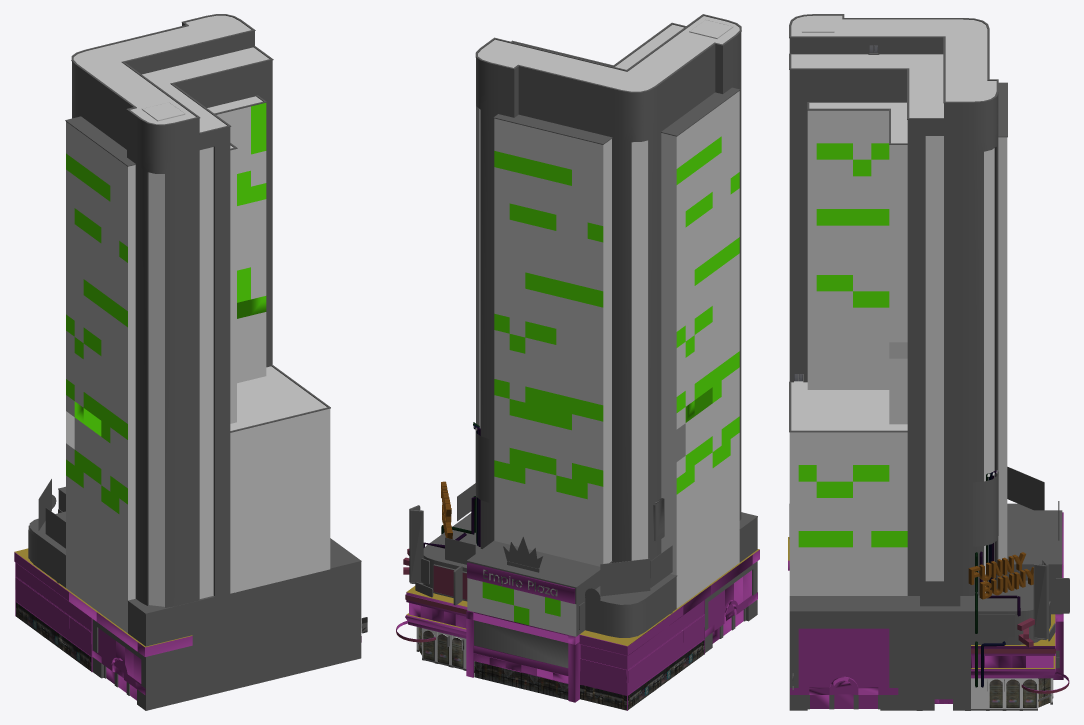
Rendered from mcp_building_04_LOD_1.FBX.
The picture shows the model from 3 angles, left to right: view 1: azimuth 30°, elevation 25°; view 2: azimuth 150°, elevation 25°; view 3: azimuth 270°, elevation 25°; orthographic projection. The views are drawn at different scales.
Visible parts, largest first — view 1: mcp_building_04_windows_01, mcp_building_04_wall_tile_01, mcp_building_04_concrete, mcp_building_04_base_01, mcp_building_04_billboards, mcp_building_04_windows_02; view 2: mcp_building_04_windows_01, mcp_building_04_wall_tile_01, mcp_building_04_base_01, mcp_building_04_concrete, mcp_building_04_billboards, mcp_building_04_windows_02, mcp_building_04_plastic, mcp_building_04_metal_roof, mcp_building_04_screen_02; view 3: mcp_building_04_windows_01, mcp_building_04_wall_tile_01, mcp_building_04_concrete, mcp_building_04_base_01, mcp_building_04_billboards, mcp_building_04_wall_tile_02, mcp_building_04_plastic, mcp_building_04_windows_02, mcp_building_04_brick, mcp_building_04_candy_01, mcp_building_04_helipad_concrete.
Part boxes in pixels (x1=…): mcp_building_04_windows_01: x1=66, y1=103, x2=330, y2=632; mcp_building_04_wall_tile_01: x1=30, y1=23, x2=361, y2=710; mcp_building_04_concrete: x1=29, y1=14, x2=361, y2=614; mcp_building_04_base_01: x1=14, y1=552, x2=361, y2=700; mcp_building_04_billboards: x1=28, y1=479, x2=367, y2=633; mcp_building_04_windows_02: x1=16, y1=602, x2=91, y2=671; mcp_building_04_windows_01: x1=467, y1=91, x2=739, y2=636; mcp_building_04_wall_tile_01: x1=423, y1=32, x2=757, y2=652; mcp_building_04_base_01: x1=396, y1=549, x2=759, y2=710; mcp_building_04_concrete: x1=416, y1=14, x2=757, y2=672; mcp_building_04_billboards: x1=409, y1=430, x2=672, y2=668; mcp_building_04_windows_02: x1=418, y1=627, x2=704, y2=710; mcp_building_04_plastic: x1=423, y1=422, x2=480, y2=548; mcp_building_04_metal_roof: x1=406, y1=549, x2=759, y2=646; mcp_building_04_screen_02: x1=433, y1=565, x2=467, y2=599; mcp_building_04_windows_01: x1=789, y1=110, x2=1007, y2=595; mcp_building_04_wall_tile_01: x1=789, y1=38, x2=1061, y2=710; mcp_building_04_concrete: x1=789, y1=14, x2=1062, y2=710; mcp_building_04_base_01: x1=788, y1=512, x2=1068, y2=708; mcp_building_04_billboards: x1=792, y1=466, x2=1059, y2=699; mcp_building_04_wall_tile_02: x1=916, y1=612, x2=970, y2=710; mcp_building_04_plastic: x1=968, y1=470, x2=1033, y2=687; mcp_building_04_windows_02: x1=794, y1=45, x2=1050, y2=707; mcp_building_04_brick: x1=971, y1=678, x2=1053, y2=708; mcp_building_04_candy_01: x1=1055, y1=578, x2=1069, y2=613; mcp_building_04_helipad_concrete: x1=801, y1=18, x2=834, y2=32.
Bounding box in the file's own units: 3607 × 8535 × 3666.
